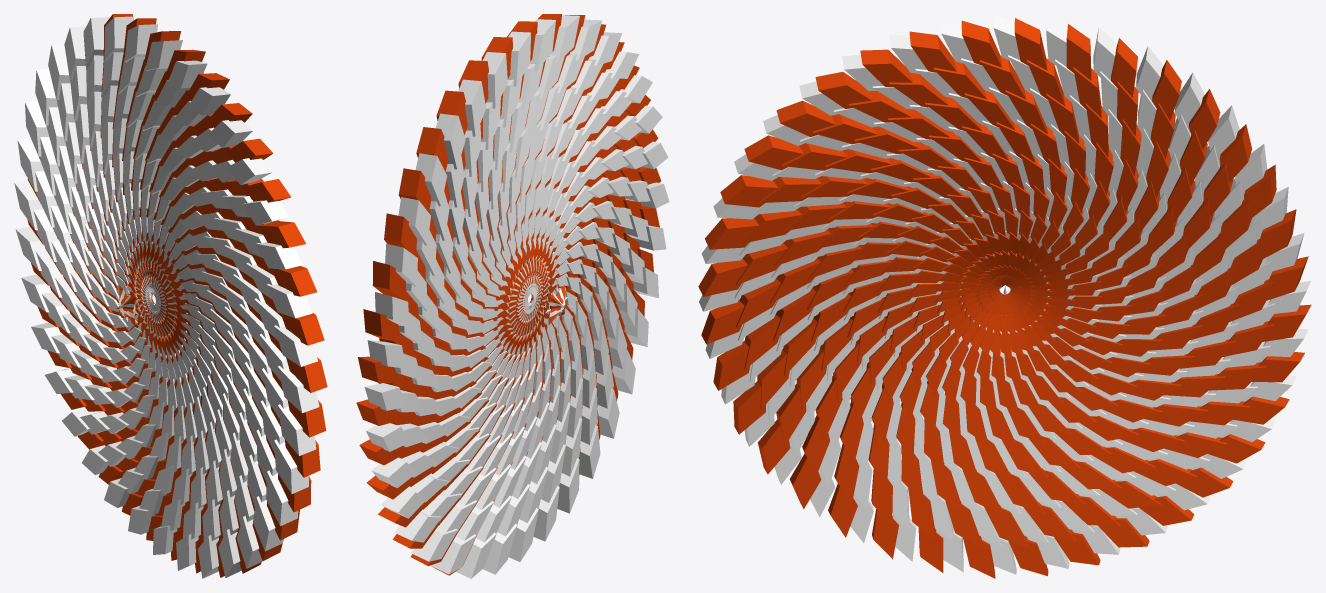
File: haikeei (4).fbx
3 renders of one model, left to right at view 1: azimuth 30°, elevation 25°; view 2: azimuth 150°, elevation 25°; view 3: azimuth 270°, elevation 25°, orthographic. The views are drawn at different scales.
Visible parts, largest first — view 1: Cube.001, Cube; view 2: Cube.001, Cube; view 3: Cube.001.
Boxes of the visible parts, x1,y1,x2,y2 form: Cube.001: (14, 14, 327, 578); Cube: (115, 285, 138, 326); Cube.001: (356, 14, 669, 578); Cube: (545, 284, 568, 325); Cube.001: (698, 14, 1311, 578).
Size of the model in its own units: 35.59 by 253 by 253.
